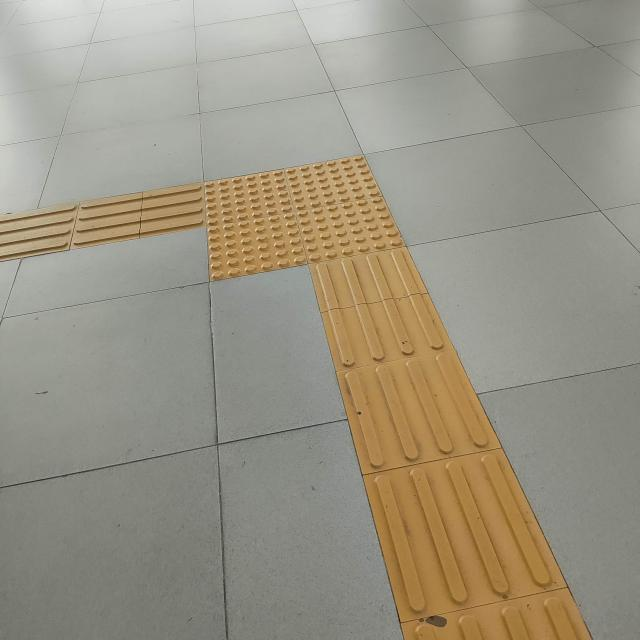kiri: (83, 133, 469, 329)
